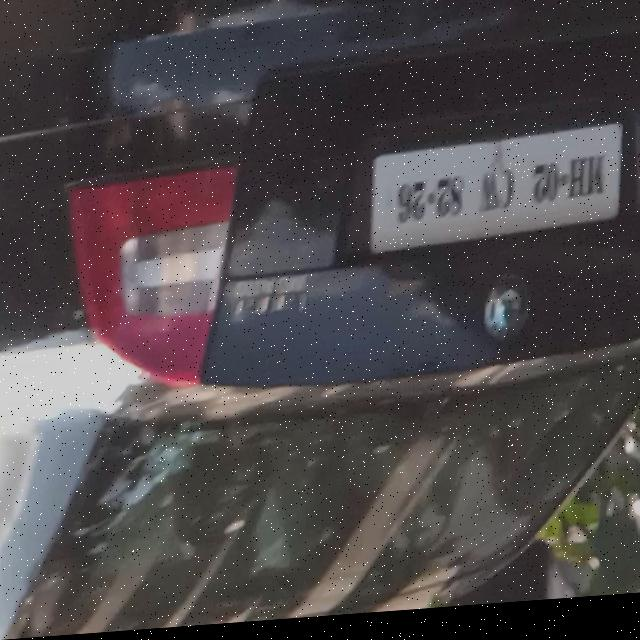plate: (369, 131, 625, 263)
